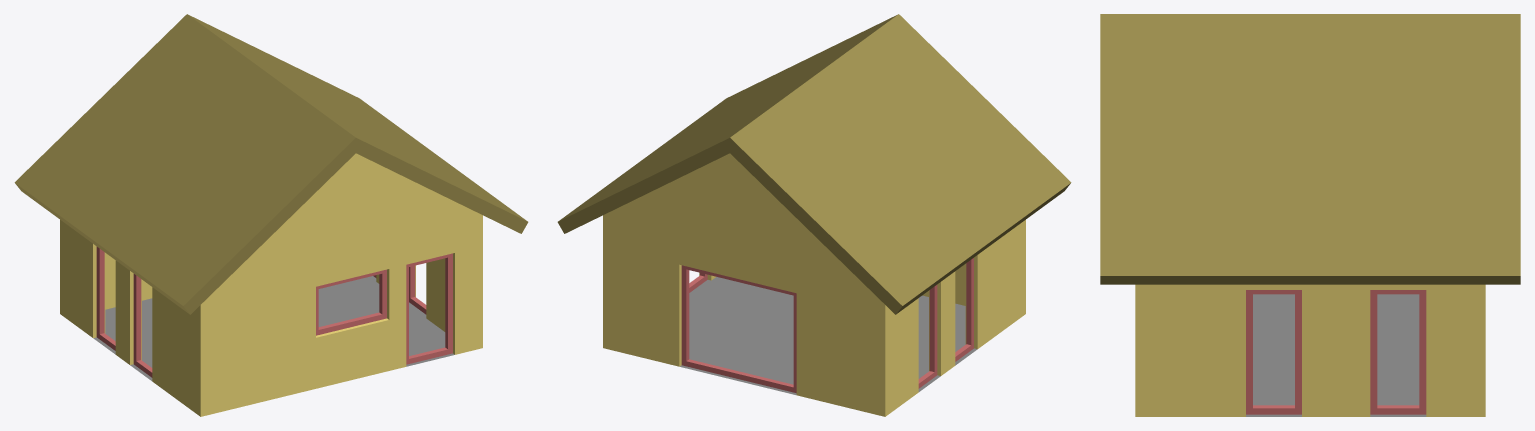
Rendered from result.glb.
3 views of the same model, side by side, from view 1: azimuth 30°, elevation 25°; view 2: azimuth 150°, elevation 25°; view 3: azimuth 270°, elevation 25° (orthographic). The views are drawn at different scales.
Visible parts, largest first — view 1: 8f1dee55-cc5b-4db3-b386-b5a57b5f7716__undefined (×2), 89168dc2-d21b-46ee-81d1-13ade812447a__undefined, 9d636f4d-719e-48a5-82ab-5ada58357572__Plane_8, 1fad5c15-33ad-49f4-a350-9b48d93956c2__Box, 4427b618-f2d2-4f23-8976-1e2eb97740fb__Box_3, 01029832-c8ca-4729-aa86-b81f59ad0ac5__Box_15, 03ca4662-1224-460d-a57f-e31a054e34f5__Box_12; view 2: 8f1dee55-cc5b-4db3-b386-b5a57b5f7716__undefined (×2), 89168dc2-d21b-46ee-81d1-13ade812447a__undefined, 9d636f4d-719e-48a5-82ab-5ada58357572__Plane_8, abf2c01a-8417-4853-b2e3-0c5aac3b14f6__Box_9, 01029832-c8ca-4729-aa86-b81f59ad0ac5__Box_15, 03ca4662-1224-460d-a57f-e31a054e34f5__Box_12; view 3: 8f1dee55-cc5b-4db3-b386-b5a57b5f7716__undefined, 89168dc2-d21b-46ee-81d1-13ade812447a__undefined, 9d636f4d-719e-48a5-82ab-5ada58357572__Plane_8, 65ec0df5-084e-4573-9566-ca9b9aab2feb__Box_21, a26e180e-1c7d-42d7-84ac-7237307eb583__Box_18.
Part boxes in pixels (bbox=[...]): 8f1dee55-cc5b-4db3-b386-b5a57b5f7716__undefined (×2): bbox=[14, 14, 528, 314]; 89168dc2-d21b-46ee-81d1-13ade812447a__undefined: bbox=[60, 153, 482, 416]; 9d636f4d-719e-48a5-82ab-5ada58357572__Plane_8: bbox=[93, 276, 454, 380]; 1fad5c15-33ad-49f4-a350-9b48d93956c2__Box: bbox=[406, 253, 452, 364]; 4427b618-f2d2-4f23-8976-1e2eb97740fb__Box_3: bbox=[316, 269, 386, 335]; 01029832-c8ca-4729-aa86-b81f59ad0ac5__Box_15: bbox=[96, 246, 115, 350]; 03ca4662-1224-460d-a57f-e31a054e34f5__Box_12: bbox=[133, 274, 152, 377]; 8f1dee55-cc5b-4db3-b386-b5a57b5f7716__undefined (×2): bbox=[557, 14, 1071, 314]; 89168dc2-d21b-46ee-81d1-13ade812447a__undefined: bbox=[603, 153, 1025, 416]; 9d636f4d-719e-48a5-82ab-5ada58357572__Plane_8: bbox=[680, 277, 977, 395]; abf2c01a-8417-4853-b2e3-0c5aac3b14f6__Box_9: bbox=[681, 265, 796, 393]; 01029832-c8ca-4729-aa86-b81f59ad0ac5__Box_15: bbox=[918, 285, 937, 388]; 03ca4662-1224-460d-a57f-e31a054e34f5__Box_12: bbox=[955, 258, 973, 361]; 8f1dee55-cc5b-4db3-b386-b5a57b5f7716__undefined: bbox=[1100, 14, 1520, 284]; 89168dc2-d21b-46ee-81d1-13ade812447a__undefined: bbox=[1135, 284, 1485, 416]; 9d636f4d-719e-48a5-82ab-5ada58357572__Plane_8: bbox=[1246, 294, 1426, 416]; 65ec0df5-084e-4573-9566-ca9b9aab2feb__Box_21: bbox=[1370, 290, 1426, 414]; a26e180e-1c7d-42d7-84ac-7237307eb583__Box_18: bbox=[1246, 290, 1301, 414].
Bounding box in the file's own units: 708 × 500 × 600.
